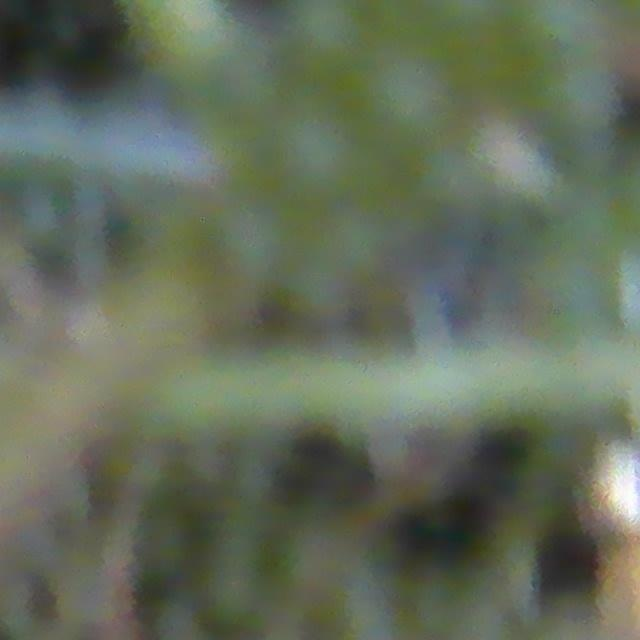SeaGrape: (258, 100, 366, 212), (359, 49, 455, 161), (541, 57, 619, 135), (515, 0, 610, 56)
